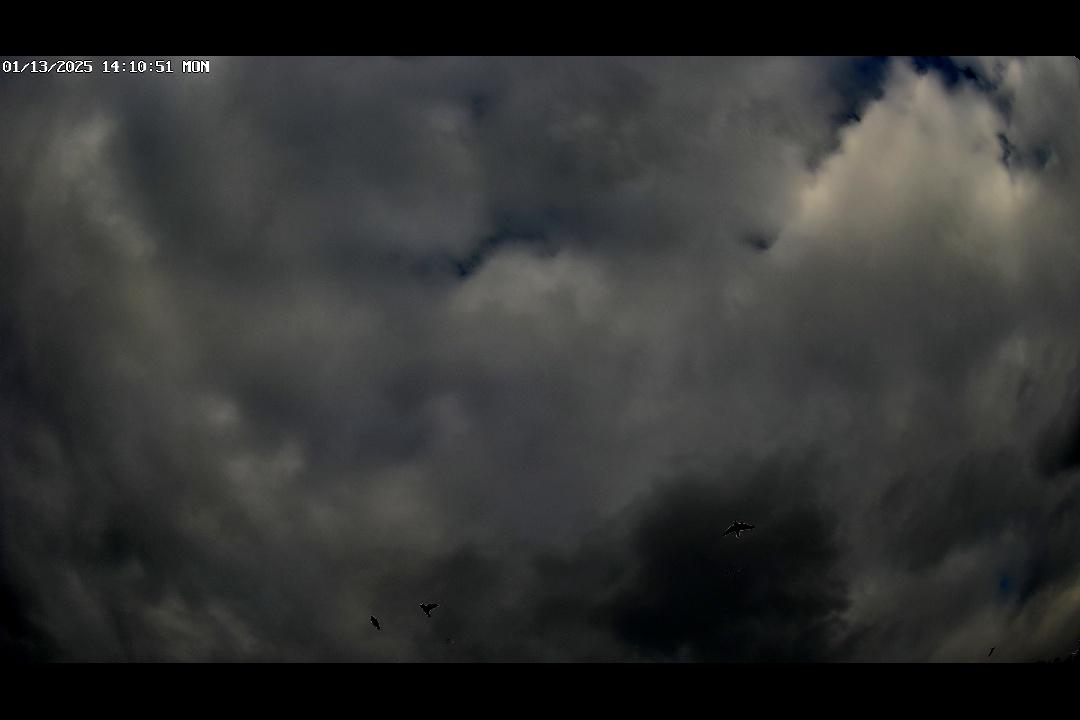WildLife: (712, 513, 765, 544), (355, 610, 396, 638), (405, 596, 448, 621), (976, 641, 1008, 658)
